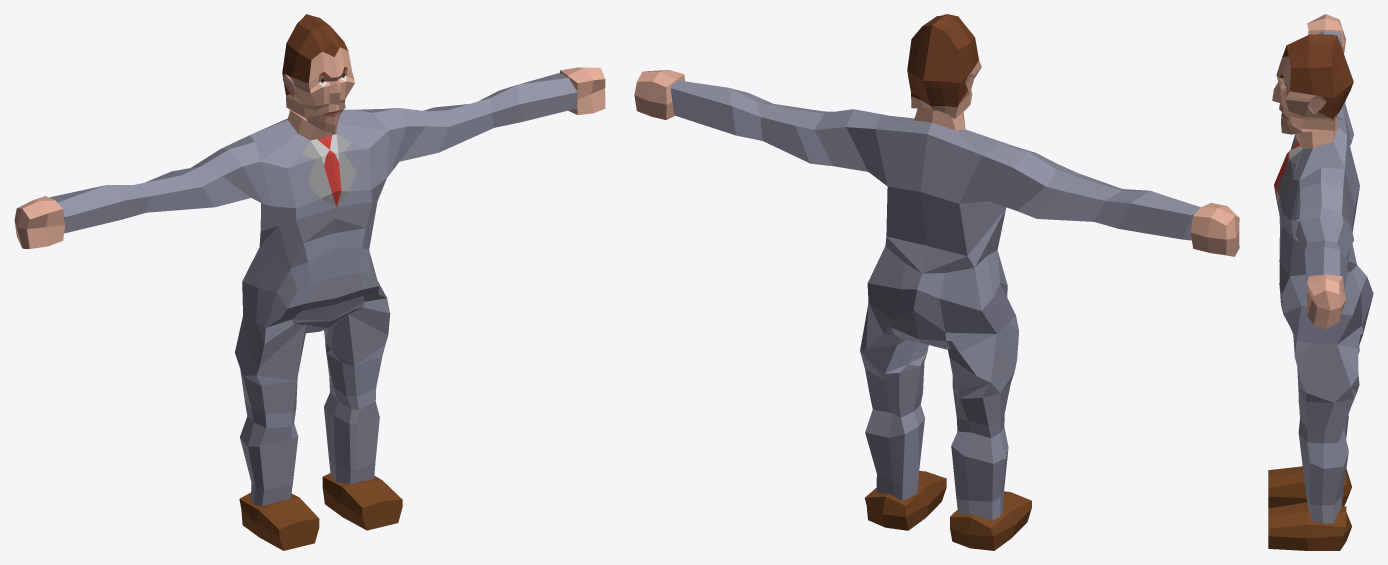
File: Papa1.fbx
The picture shows the model from 3 angles, left to right: view 1: azimuth 30°, elevation 25°; view 2: azimuth 150°, elevation 25°; view 3: azimuth 270°, elevation 25°; orthographic projection. The views are drawn at different scales.
Parts seen in each view (by area): view 1: corps, Cube, tete, main; view 2: corps, tete, Cube, main; view 3: corps, tete, Cube, main.
Part boxes in pixels (<box>): corps: <box>50,73,577,506</box>; Cube: <box>239,473,402,550</box>; tete: <box>282,14,354,134</box>; main: <box>14,67,605,248</box>; corps: <box>670,80,1200,520</box>; tete: <box>907,14,981,118</box>; Cube: <box>865,471,1031,550</box>; main: <box>634,70,1239,256</box>; corps: <box>1274,31,1373,523</box>; tete: <box>1272,34,1353,134</box>; Cube: <box>1268,466,1351,550</box>; main: <box>1307,14,1345,329</box>.
Bounding box in the file's own units: 1648 × 1338 × 262.
